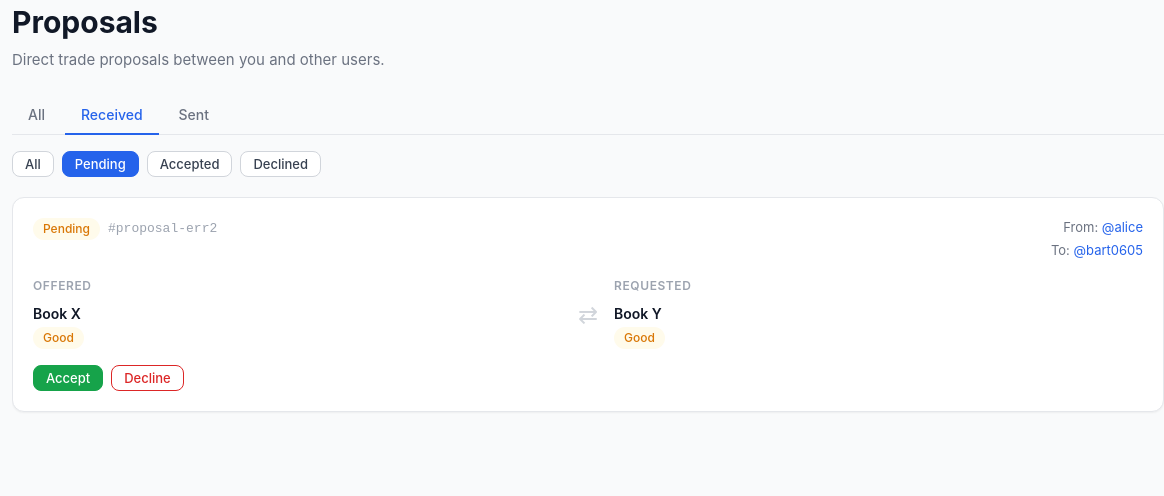
Test: Proposals page › shows generic fallback error when accept fails without detail
Click the button "Accept".
click(68, 378)  # box top-left (33, 365), bottom-right (103, 391)
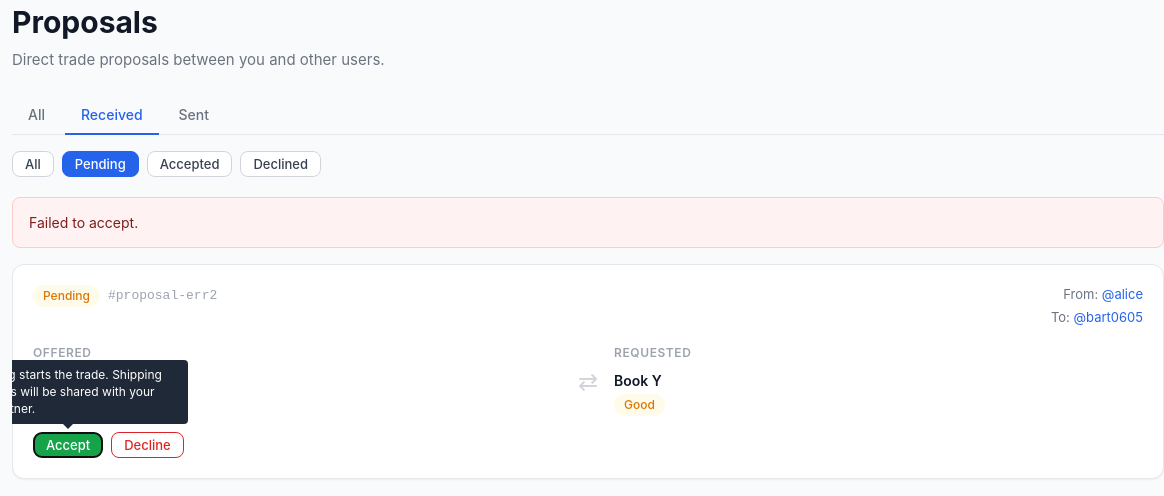
Expected: the text "Failed to accept." is shown, top-left (12, 197), bottom-right (1163, 248)
